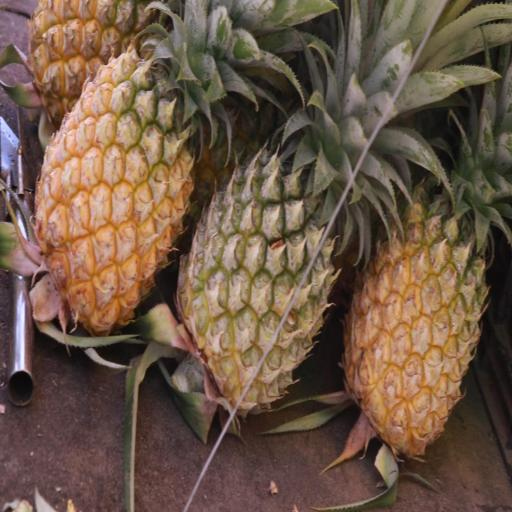Pineapple - v8 v1: (27, 0, 196, 350), (338, 84, 492, 458)
